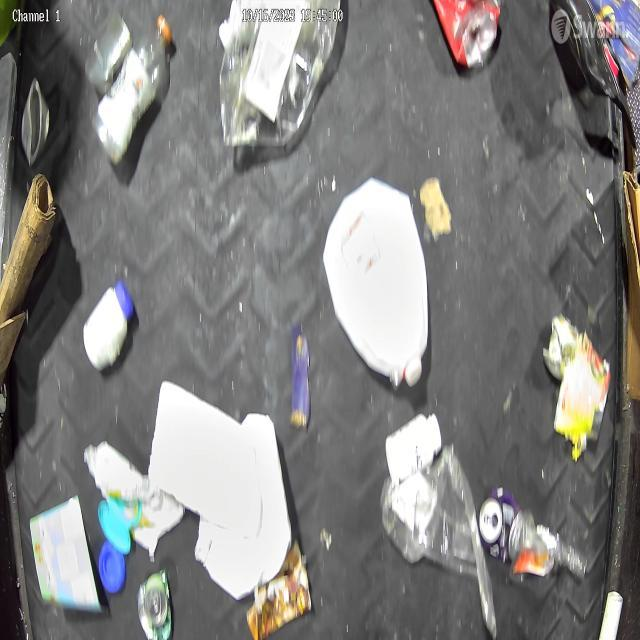can: (86, 10, 133, 96), (478, 486, 519, 564), (20, 76, 50, 166), (138, 568, 173, 640)
milk_jug: (322, 176, 430, 388), (195, 410, 292, 600)
plastic_bottle: (91, 13, 173, 167), (510, 508, 588, 586)
